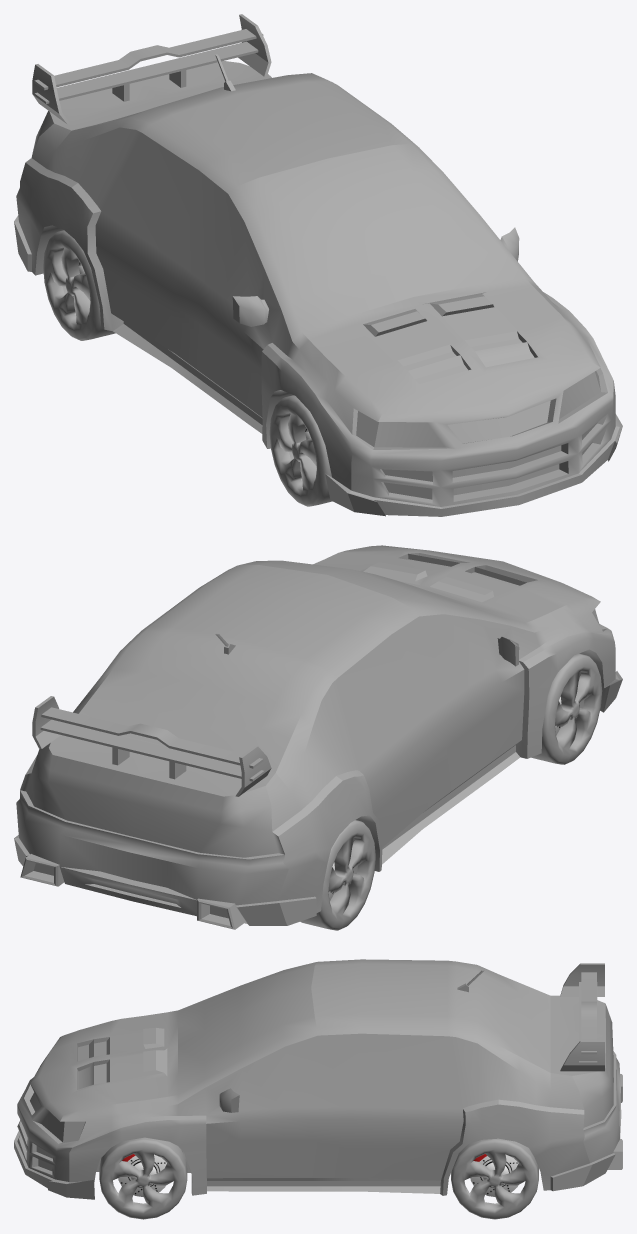
File: Gigantic_Cobra 1.fbx
3 renders of one model, top to bottom at view 1: azimuth 30°, elevation 25°; view 2: azimuth 150°, elevation 25°; view 3: azimuth 270°, elevation 25°, orthographic. The views are drawn at different scales.
Parts seen in each view (by area): view 1: GC_Body, GC_Tire3, GC_Tire2, Spoiler; view 2: GC_Body, GC_Tire3, GC_Tire2, Spoiler, Block_Exhaust; view 3: GC_Body, GC_Tire, GC_Tire1, Spoiler, GC_Disk_brake, GC_Disk_brake1, Block_Exhaust.
Part boxes in pixels (x1,y1,x2,y2): GC_Body: (14, 41, 622, 516); GC_Tire3: (269, 395, 332, 506); GC_Tire2: (43, 230, 115, 340); Spoiler: (32, 14, 271, 124); GC_Body: (14, 545, 622, 925); GC_Tire3: (531, 653, 602, 764); GC_Tire2: (300, 820, 375, 930); Spoiler: (32, 696, 271, 796); Block_Exhaust: (20, 854, 245, 929); GC_Body: (14, 959, 621, 1199); GC_Tire: (99, 1137, 187, 1219); GC_Tire1: (451, 1138, 538, 1219); Spoiler: (560, 963, 604, 1071); GC_Disk_brake: (470, 1154, 518, 1196); GC_Disk_brake1: (118, 1154, 166, 1197); Block_Exhaust: (607, 1074, 622, 1169).
Bounding box in the file's own units: 11.11 × 9.36 × 26.12.
